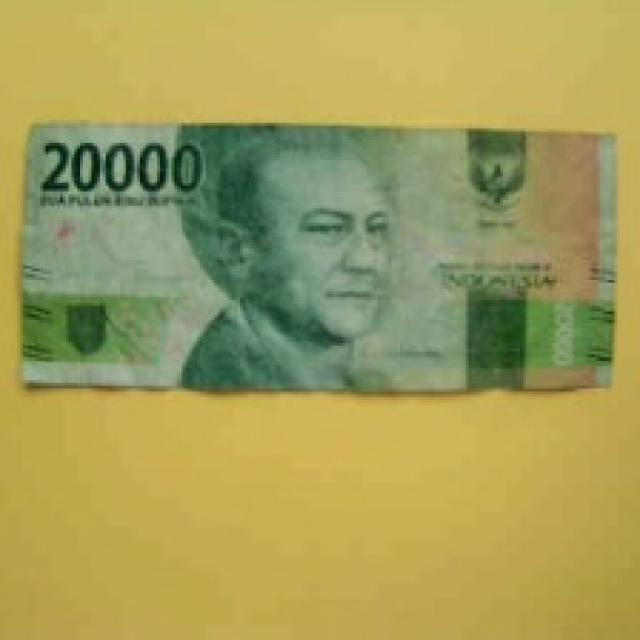dua puluh ribu rupiah: (0, 25, 640, 424)
